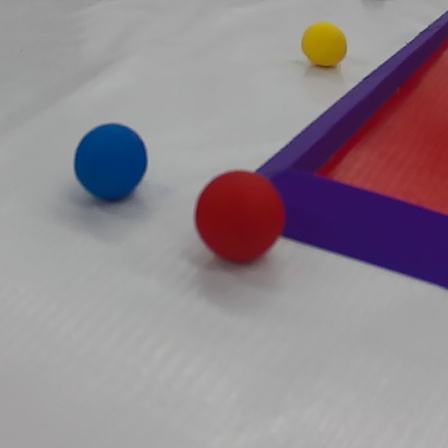blue: (73, 124, 150, 200)
red: (193, 170, 288, 265)
red_aim: (254, 7, 448, 298)
yellow: (297, 22, 354, 80)
